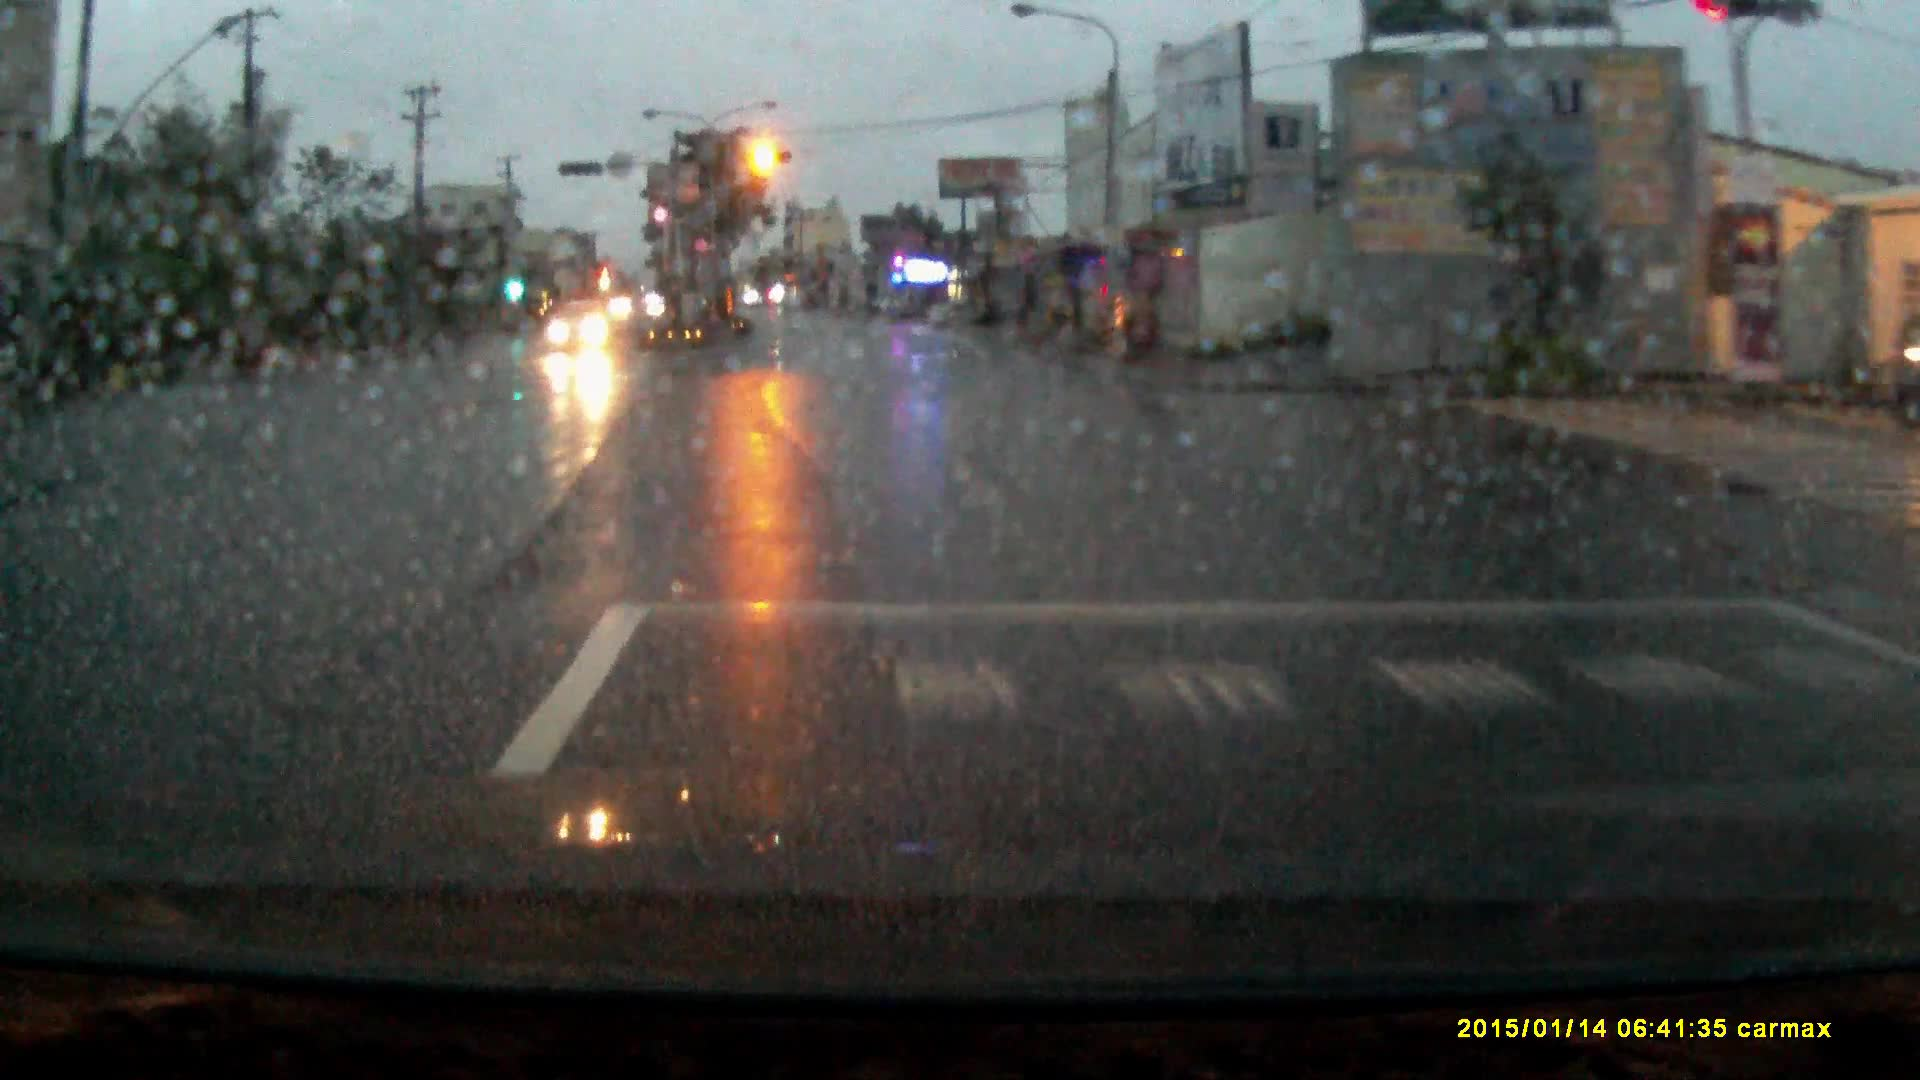rider: (1893, 294, 1920, 420)
vehicle: (544, 301, 616, 353)
